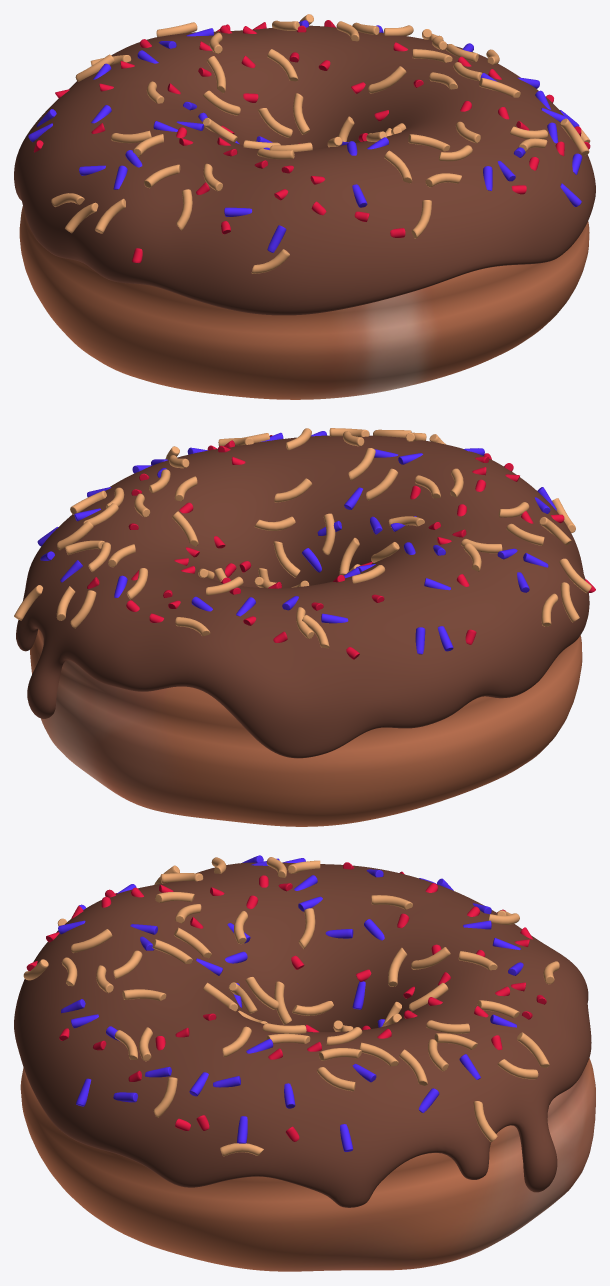
File: donut for three.glb
3 views of the same model, one above another, from view 1: azimuth 30°, elevation 25°; view 2: azimuth 150°, elevation 25°; view 3: azimuth 270°, elevation 25° (orthographic). The views are drawn at different scales.
Parts seen in each view (by area): view 1: icing, donut; view 2: icing, donut; view 3: icing, donut.
Part boxes in pixels (left/top/right/bottom): icing: left=14, top=25, right=595, bottom=315; donut: left=19, top=206, right=589, bottom=399; icing: left=16, top=435, right=589, bottom=758; donut: left=30, top=629, right=582, bottom=826; icing: left=14, top=862, right=591, bottom=1207; donut: left=20, top=1058, right=595, bottom=1271.
Size of the model in its own units: 0.1217 by 0.0549 by 0.1168.
5 materials, 1 textured.
